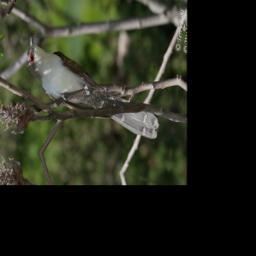Cuckoo: (18, 29, 165, 143)
